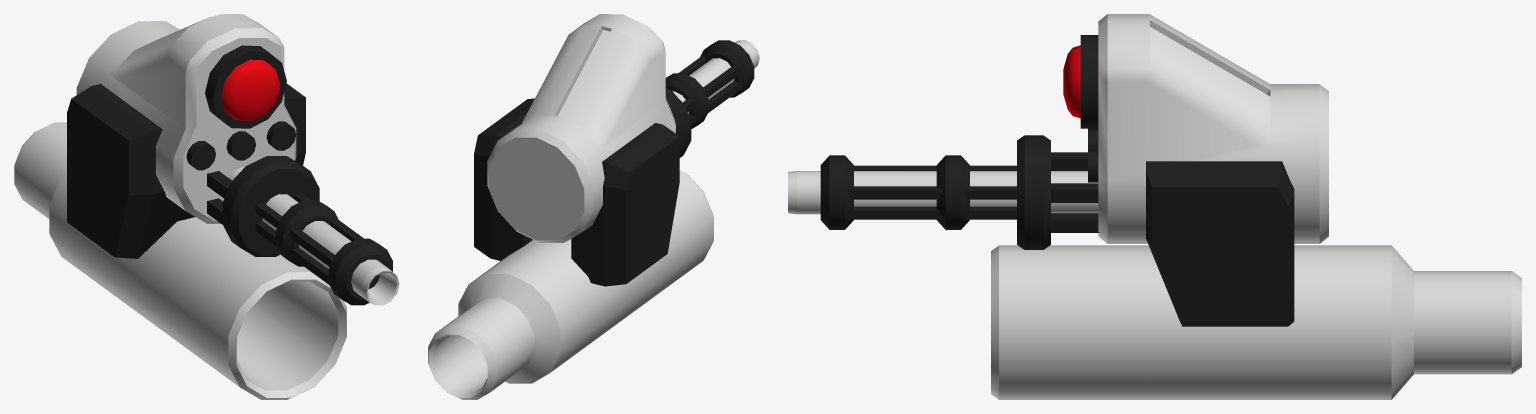
File: DroneGun.fbx
The picture shows the model from 3 angles, left to right: view 1: azimuth 30°, elevation 25°; view 2: azimuth 150°, elevation 25°; view 3: azimuth 270°, elevation 25°; orthographic projection. The views are drawn at different scales.
Parts seen in each view (by area): view 1: Cylinder.022, Cylinder.019, Cube.006, Cylinder.023, Cylinder.021, Cylinder.018, Cylinder.017, Cylinder.015, Cube.008, Cylinder.025, Cylinder.016, Cylinder.020 (+1 smaller); view 2: Cylinder.019, Cylinder.022, Cube.006, Cylinder.023, Cube.008, Cylinder.025, Cylinder.020, Cylinder.018, Cylinder.021, Cylinder.024; view 3: Cylinder.022, Cylinder.019, Cube.006, Cylinder.023, Cylinder.018, Cube.008, Cylinder.021, Cube.007, Cylinder.025, Cylinder.020, Cylinder.015, Cylinder.017.
Boxes of the visible parts, x1,y1,x2,y2 form: Cylinder.022: (49,171,346,399); Cylinder.019: (76,14,296,223); Cube.006: (67,83,305,258); Cylinder.023: (14,122,338,390); Cylinder.021: (222,156,319,256); Cylinder.018: (228,167,399,305); Cylinder.017: (221,59,280,120); Cylinder.015: (205,45,286,128); Cube.008: (255,193,363,284); Cylinder.025: (328,238,392,305); Cylinder.016: (186,121,296,170); Cylinder.020: (275,200,338,266); Cylinder.019: (487,14,675,242); Cylinder.022: (458,170,713,383); Cube.006: (474,98,679,286); Cylinder.023: (428,298,534,399); Cube.008: (678,55,742,125); Cylinder.025: (700,40,754,97); Cylinder.020: (665,73,708,128); Cylinder.018: (672,40,759,114); Cylinder.021: (665,88,691,157); Cylinder.024: (558,30,610,117); Cylinder.022: (991,245,1413,399); Cylinder.019: (1098,14,1328,243); Cube.006: (1146,161,1294,326); Cylinder.023: (1414,271,1521,374); Cylinder.018: (788,171,1098,214); Cube.008: (847,165,1016,219); Cylinder.021: (1017,135,1050,249); Cube.007: (1051,152,1099,232); Cylinder.025: (820,155,853,229); Cylinder.020: (936,155,969,229); Cylinder.015: (1080,35,1098,128); Cylinder.017: (1063,45,1080,118).
Bounding box in the file's own units: 19.99 × 36.2 × 65.21.
